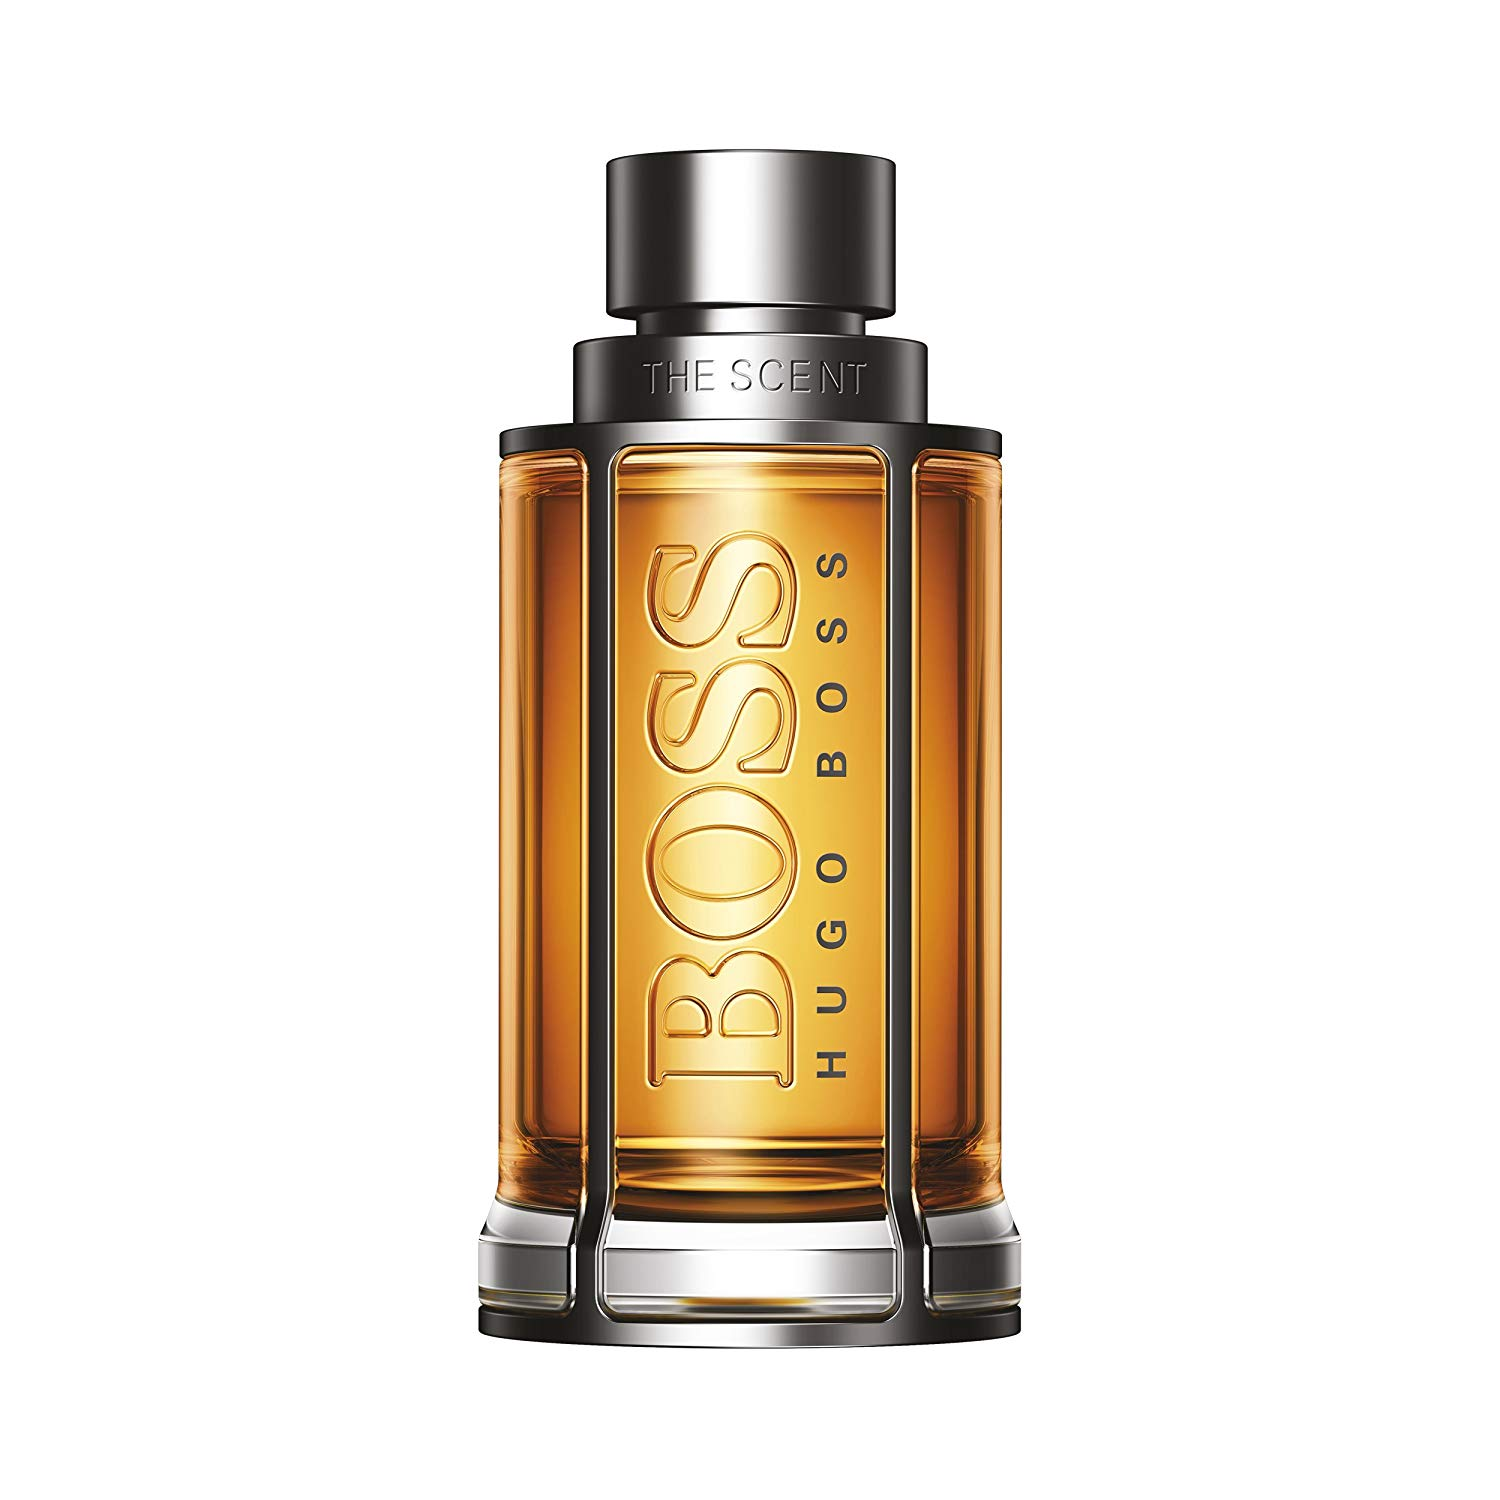Hugo Boss: (808, 538, 874, 1096)
